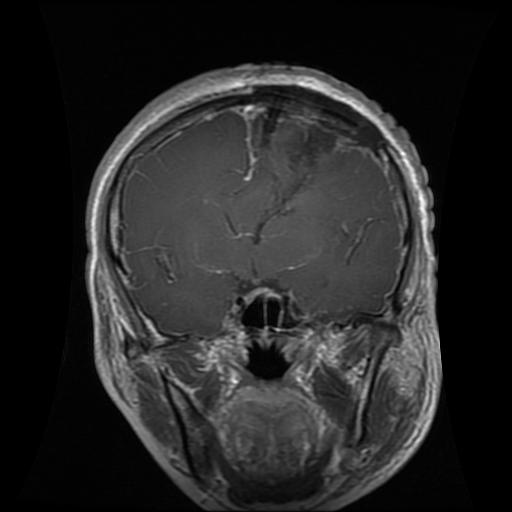Gliomia_tumour: (247, 108, 345, 192)
